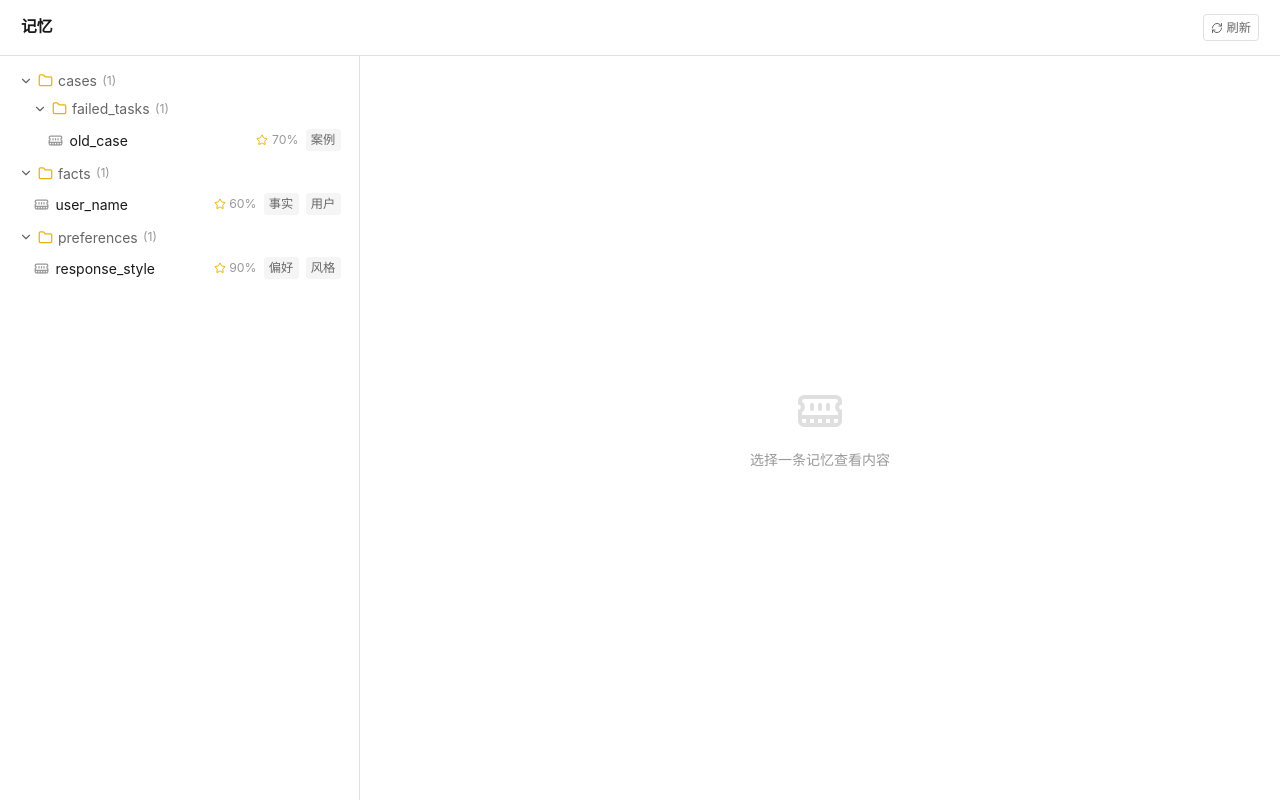
Test: MemoryPanel › collapses and expands directory nodes
This screenshot has width=1280, height=800.
Expected: the text "user_name" is shown, [56,194,128,215]
点击 facts 目录 → 折叠（其下叶子消失）
Click the text "facts": (74, 173) [58,162,91,184]
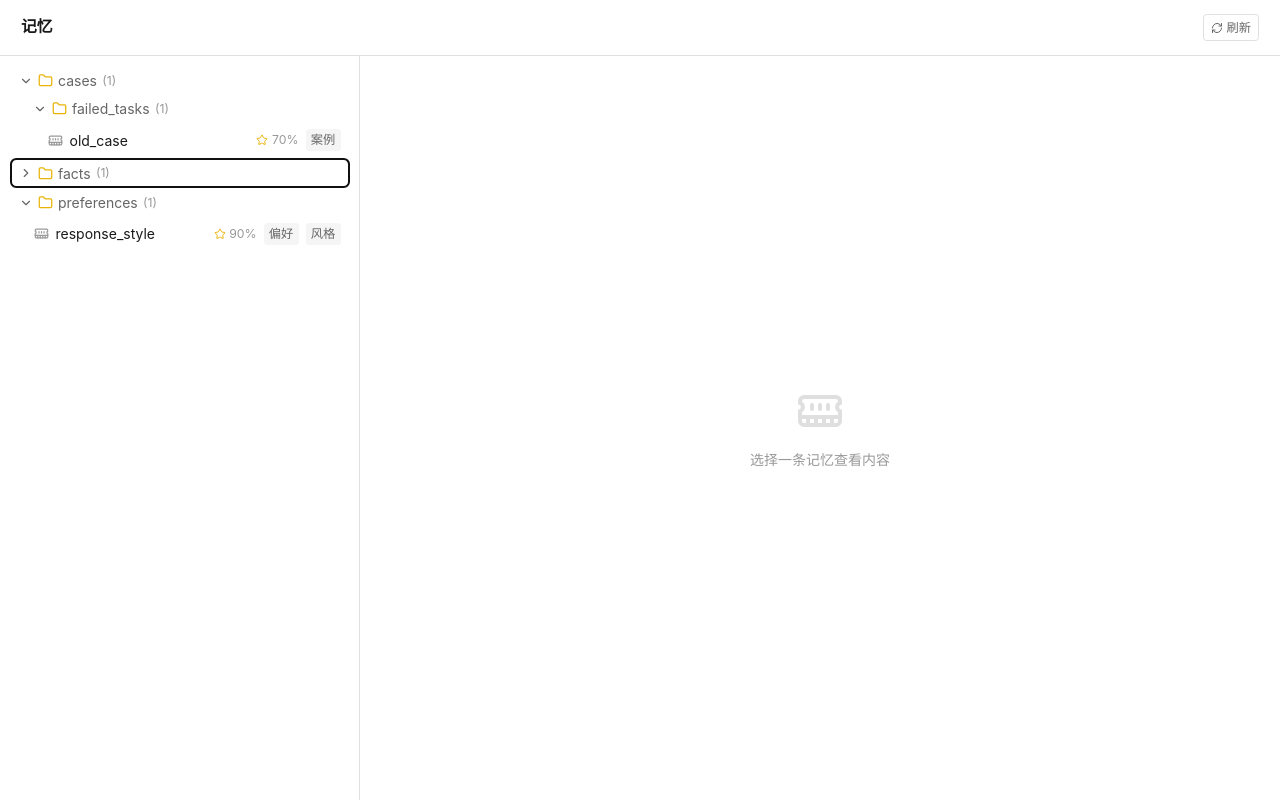
Expected: the button "user_name" is gone
再点击 → 展开恢复
Click the text "facts": (74, 173) [58,162,91,184]
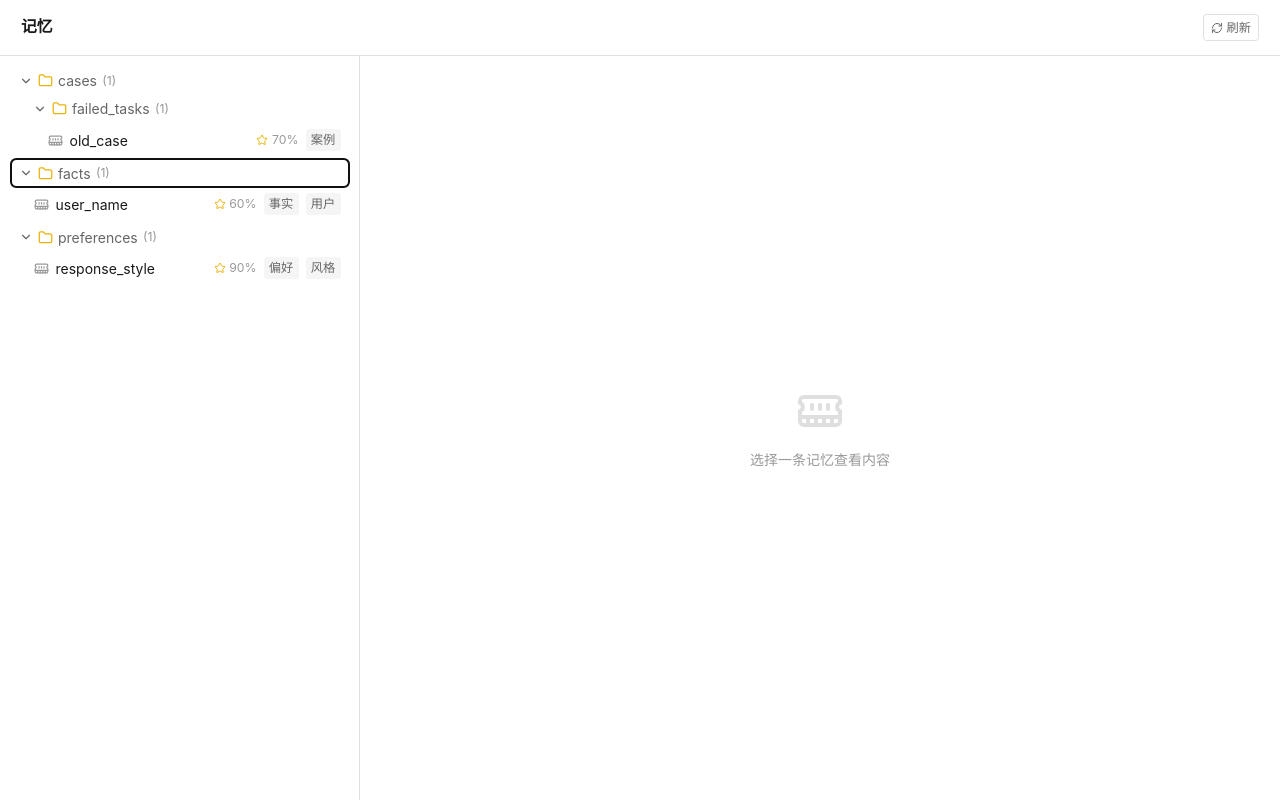
Expected: the text "user_name" is shown, [56,194,128,215]
